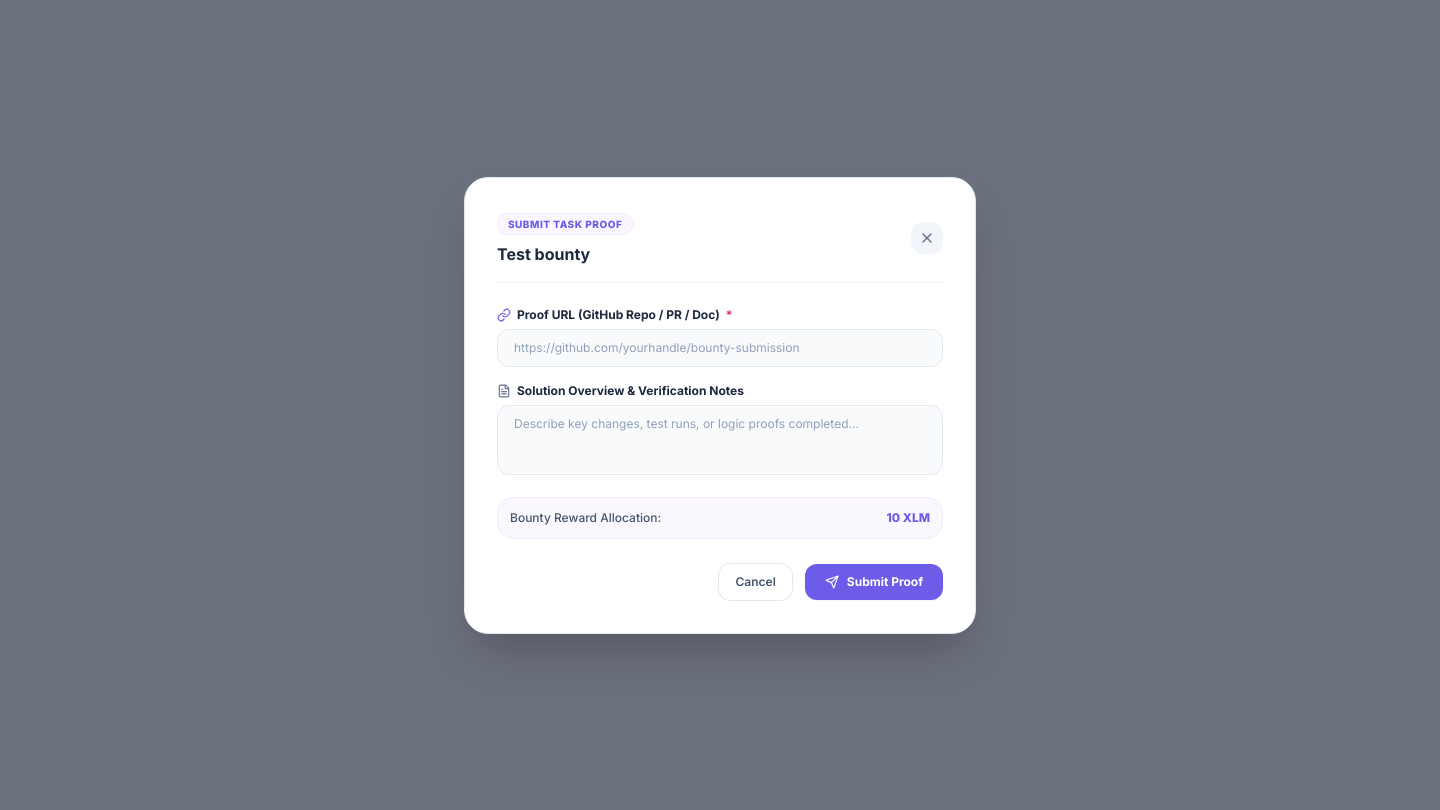
Test: SubmitProofModal evidence › does not log evidence when proof submission fails
Step 1. Type "https://example.com/proof" into the field with placeholder "https://github.com/yourhandle/bounty-submission" → (720, 348), box [497,328,943,366]
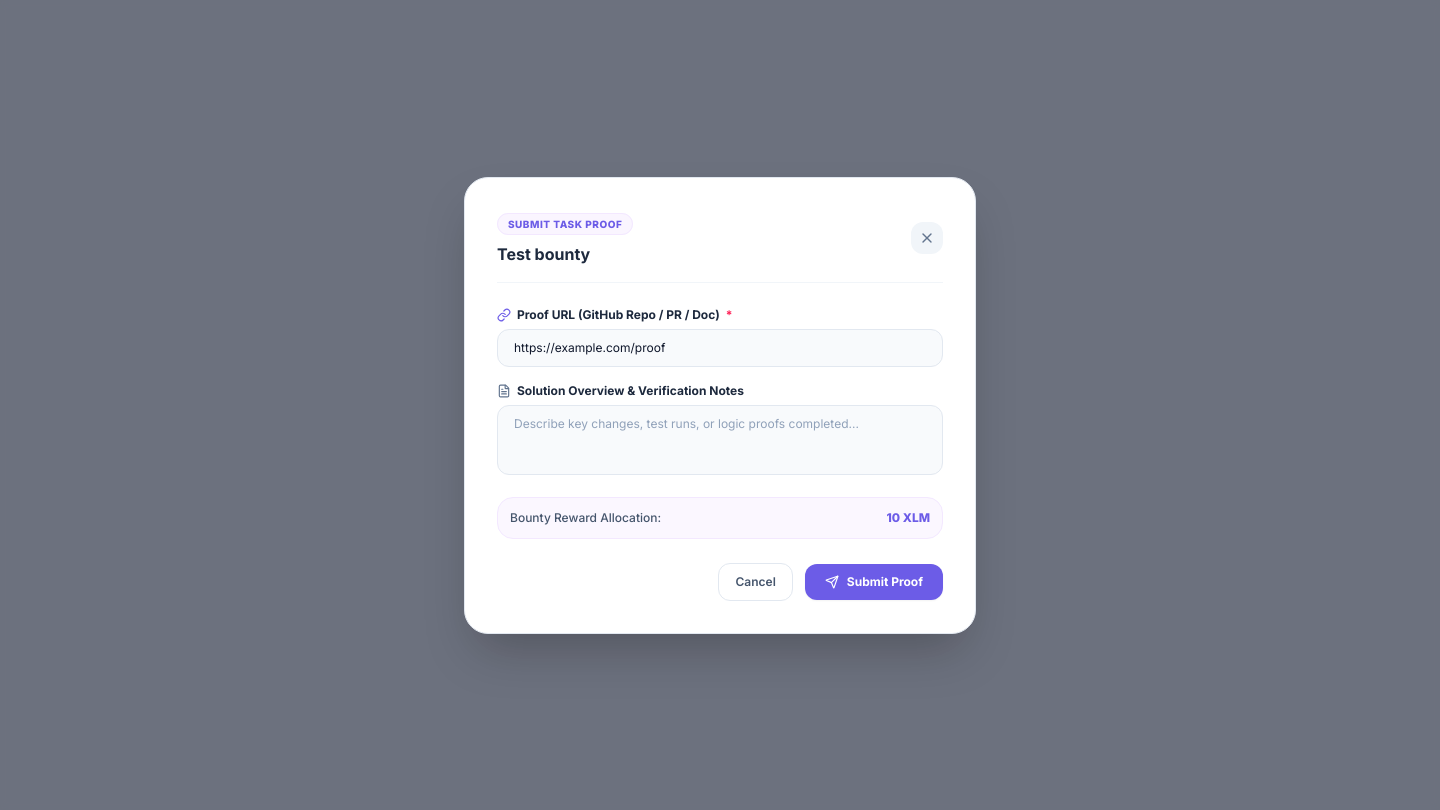
Step 2. Click the button "Submit Proof" → (874, 582), box [805,564,943,600]
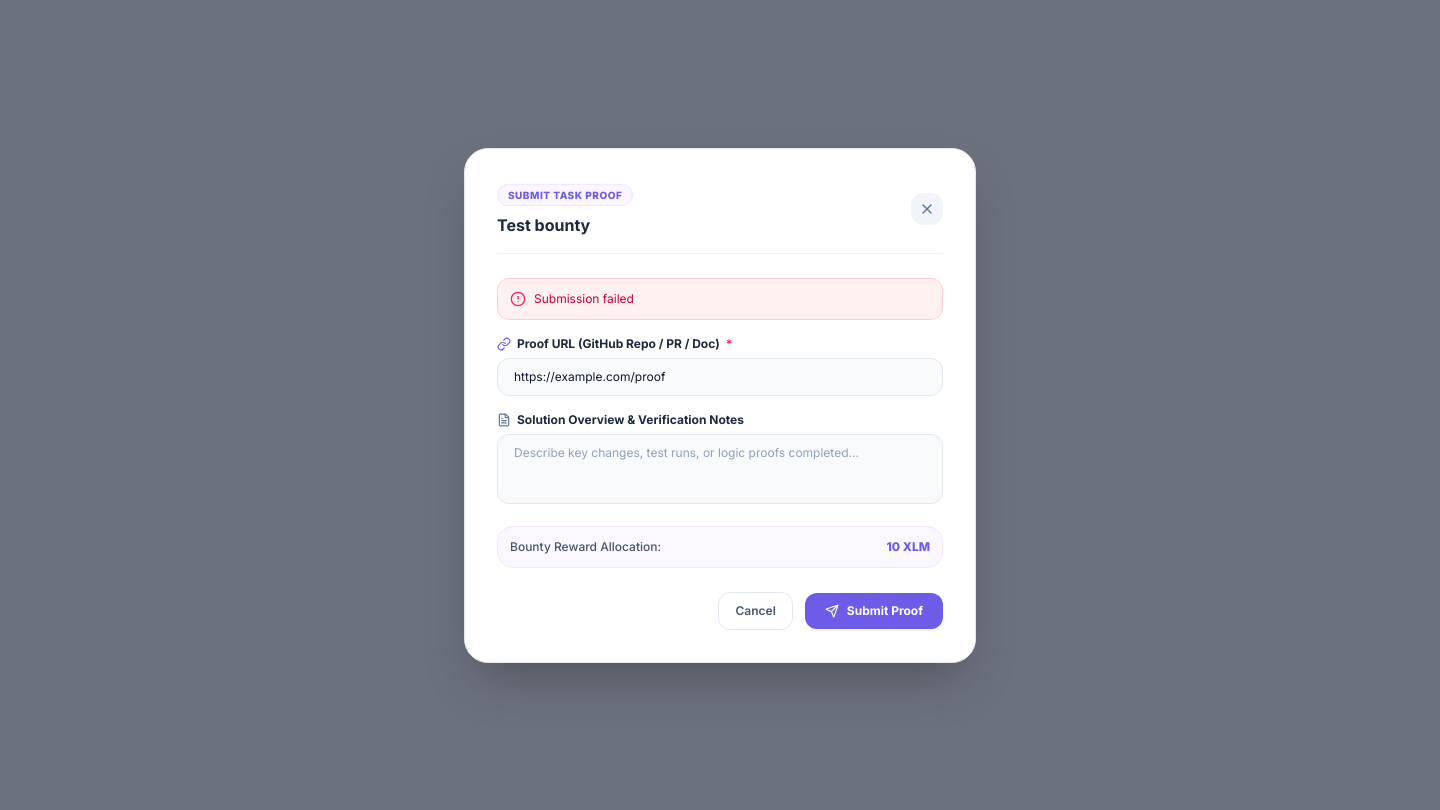
Check: the text "Submission failed" is shown, box [534,290,634,306]
